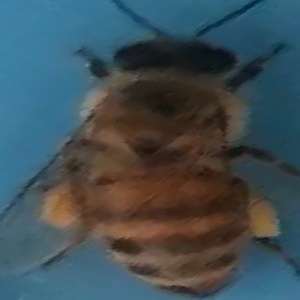bee: (30, 12, 297, 300)
